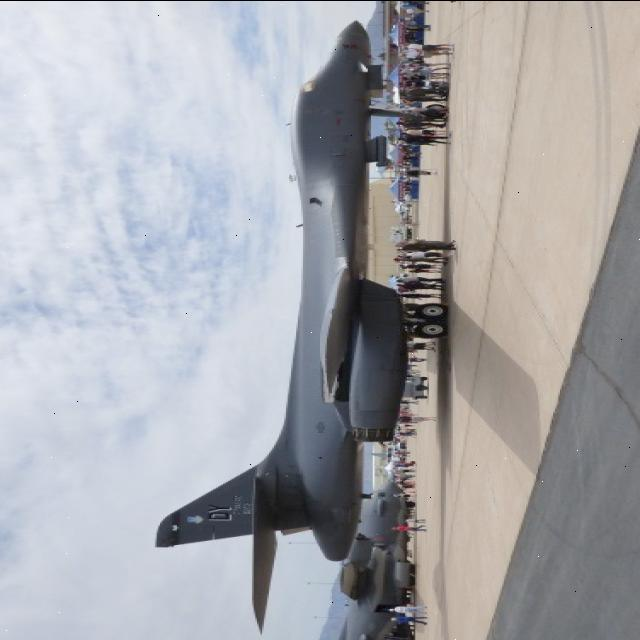B1: (97, 0, 505, 639)
